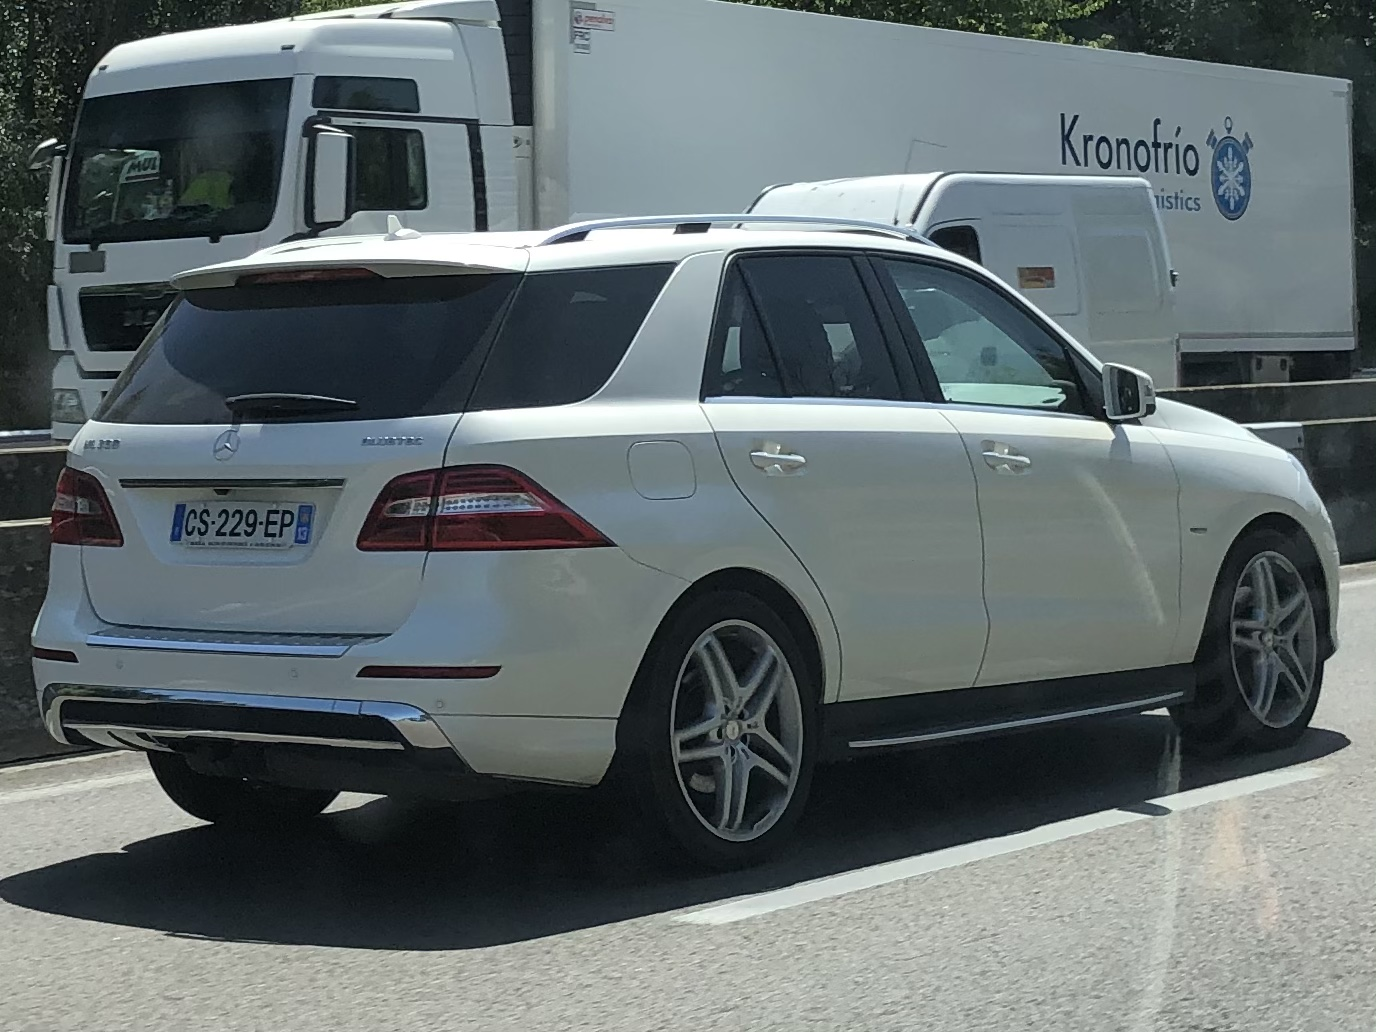licence plate: (166, 497, 316, 554)
